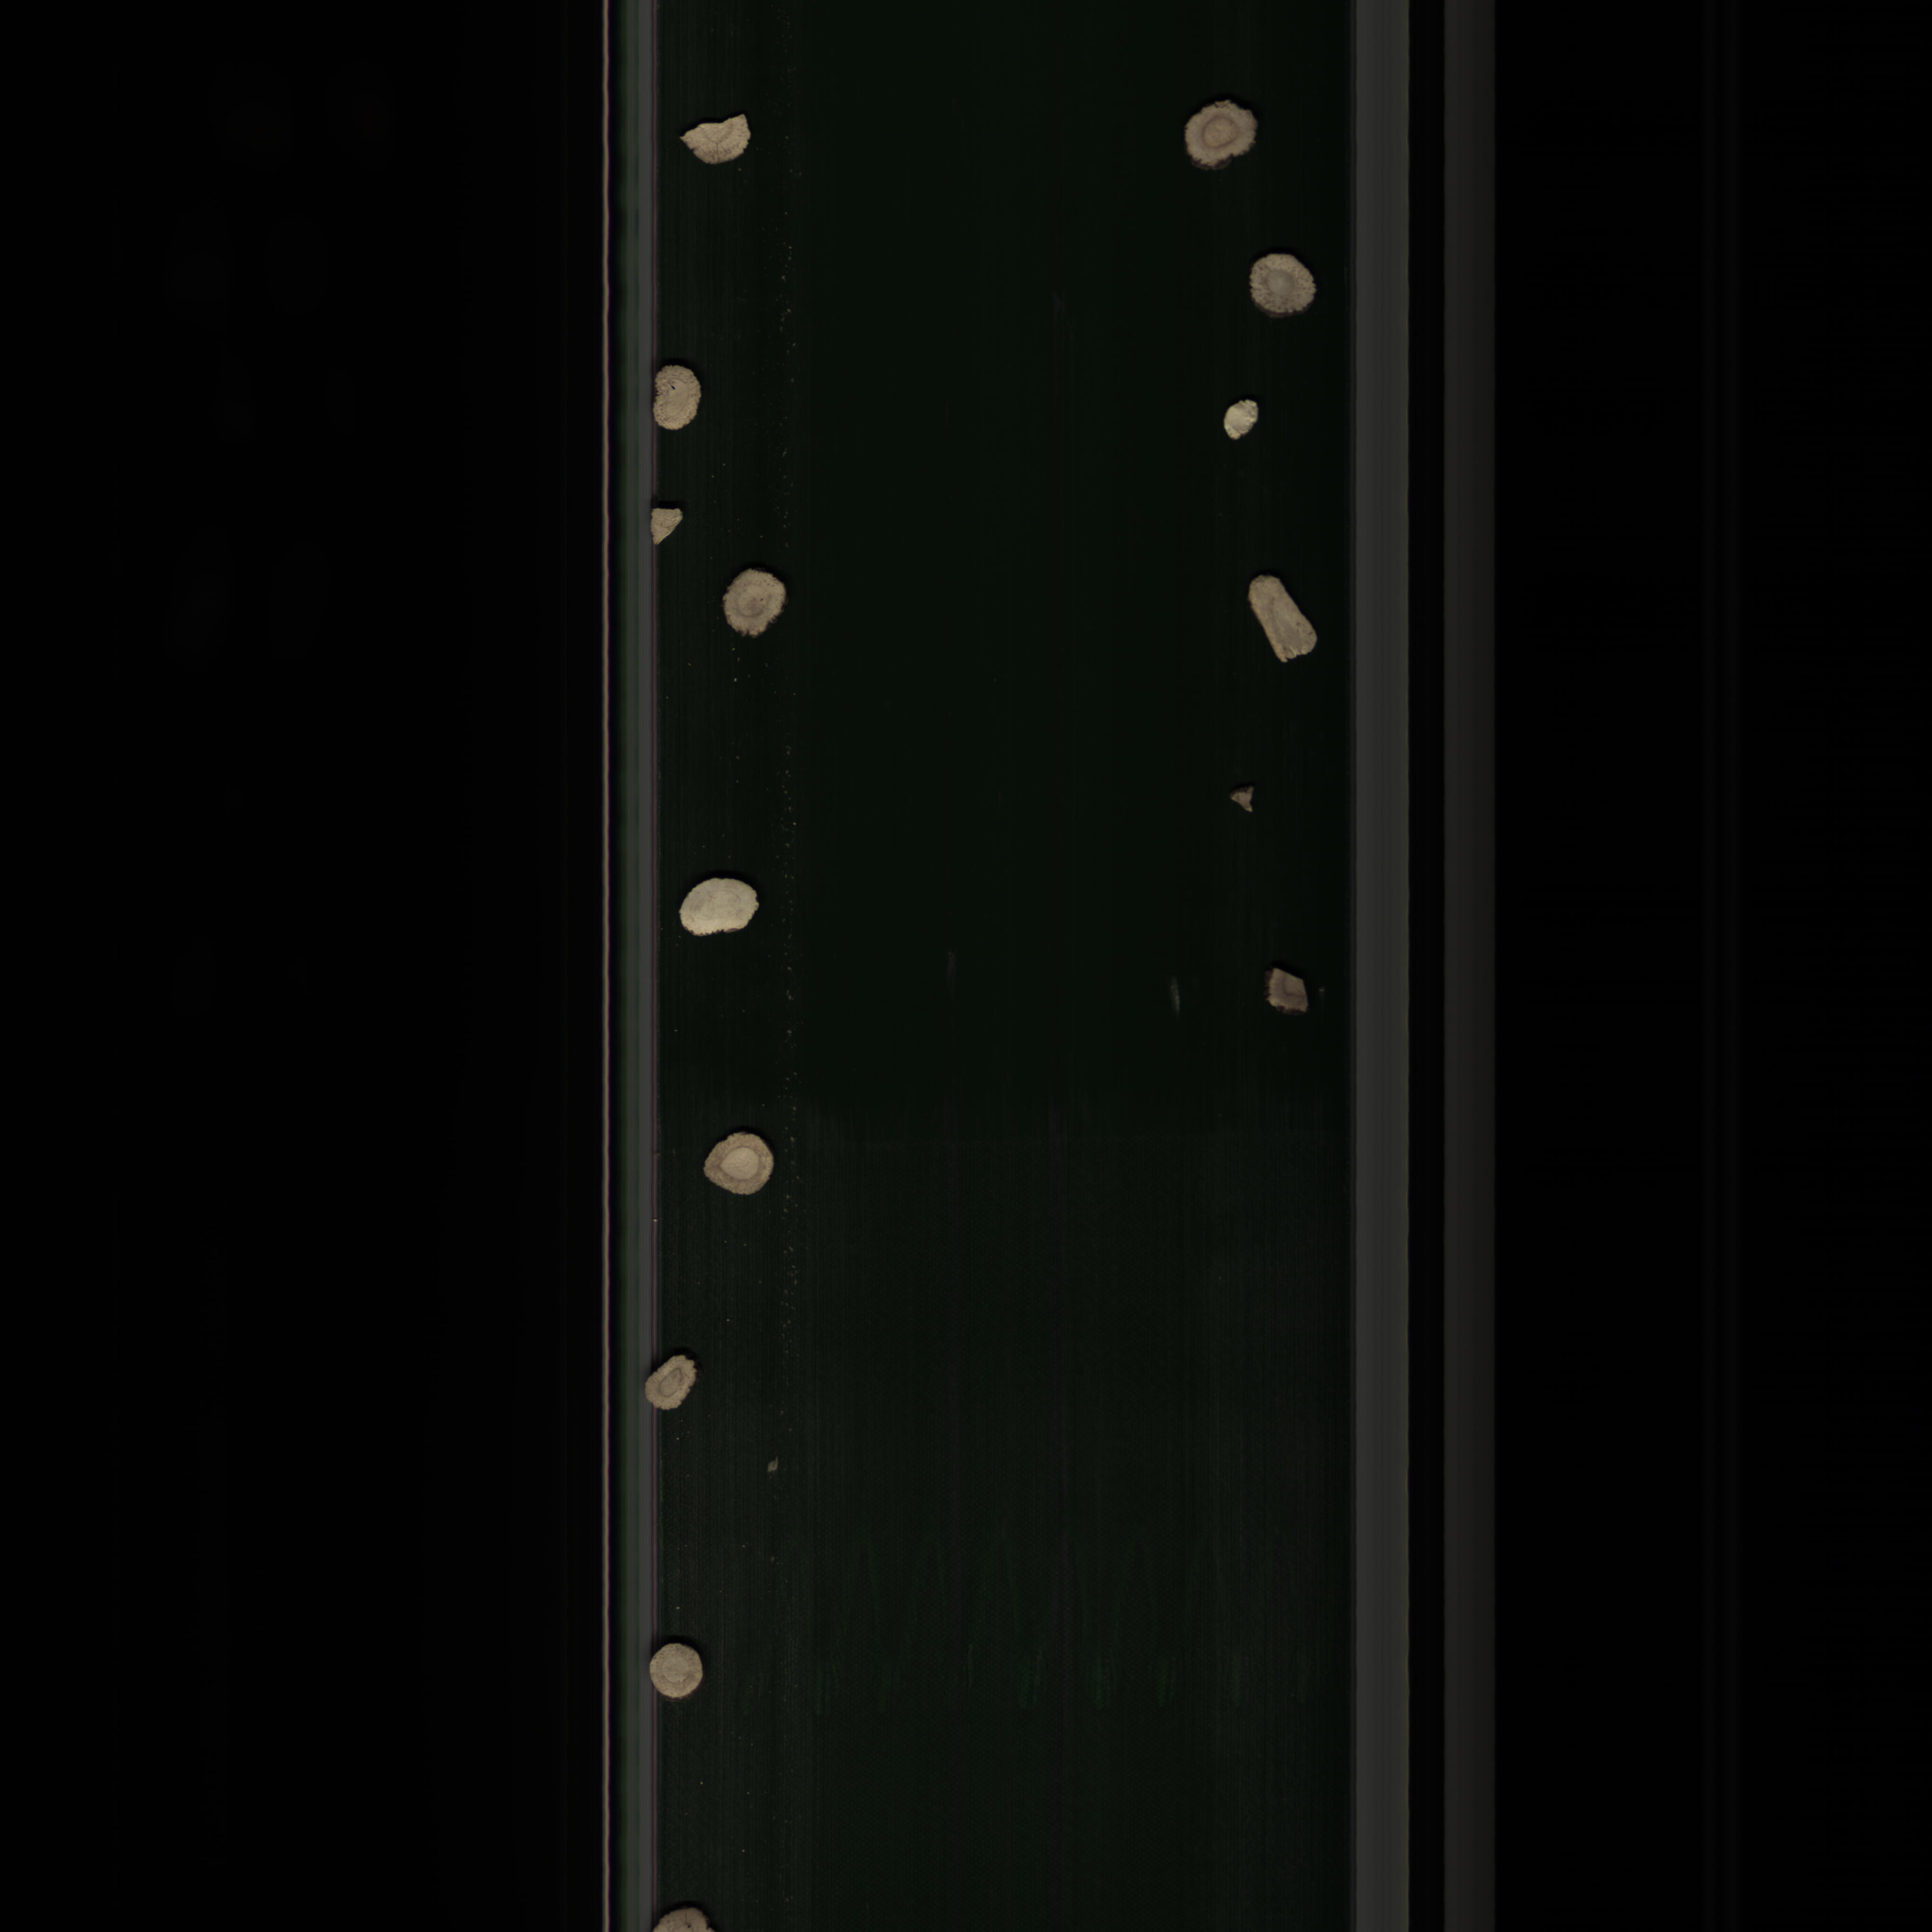debris: (674, 110, 764, 180), (1261, 961, 1318, 1019), (644, 499, 686, 550), (1221, 780, 1263, 824)
distortion: (1238, 573, 1322, 669)
moldy: (1177, 96, 1270, 179)
